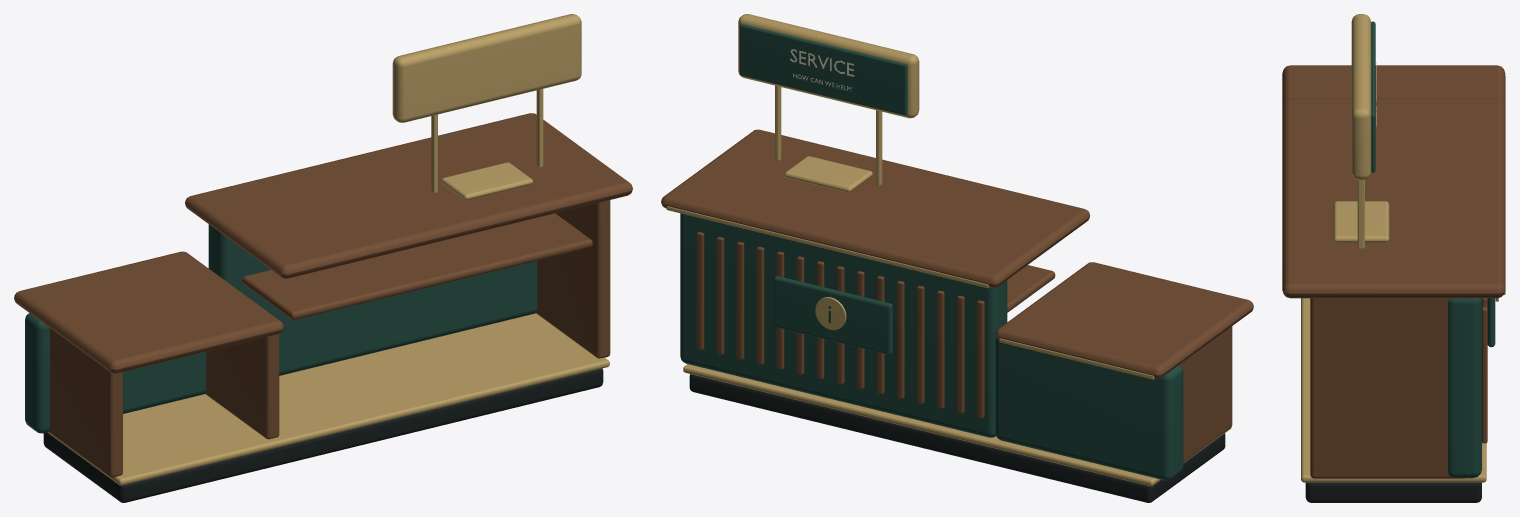
Rendered from mall-service-desk.glb.
The picture shows the model from 3 angles, left to right: view 1: azimuth 30°, elevation 25°; view 2: azimuth 150°, elevation 25°; view 3: azimuth 270°, elevation 25°; orthographic projection. The views are drawn at different scales.
Parts seen in each view (by area): view 1: mall-service-desk; view 2: mall-service-desk; view 3: mall-service-desk.
Boxes of the visible parts, x1,y1,x2,y2 form: mall-service-desk: (14,14,632,502); mall-service-desk: (661,14,1253,502); mall-service-desk: (1282,14,1505,502).
Bounding box in the file's own units: 2.88 × 1.87 × 0.961.
